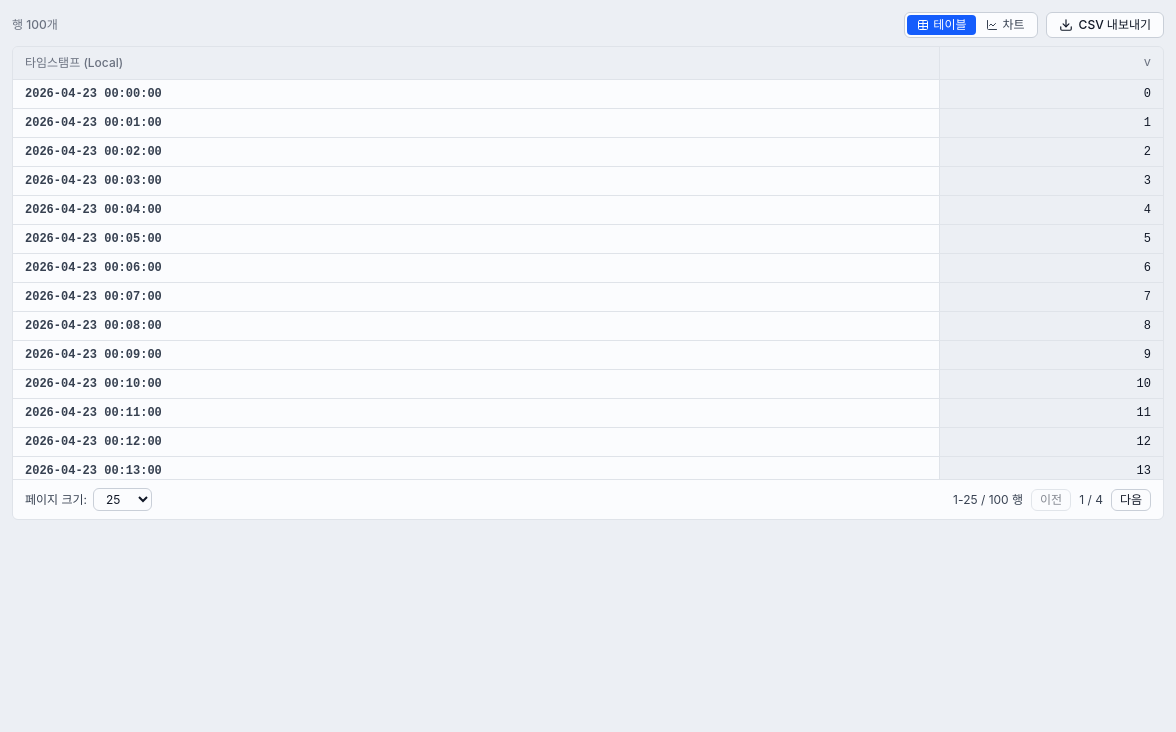
Test case: SeriesResultMatrix: 페이지네이션 › 페이지 크기 변경 시 페이지가 1로 리셋된다
Click the button with test id "tsdb-page-next": (1131, 500) [1111, 488, 1151, 510]
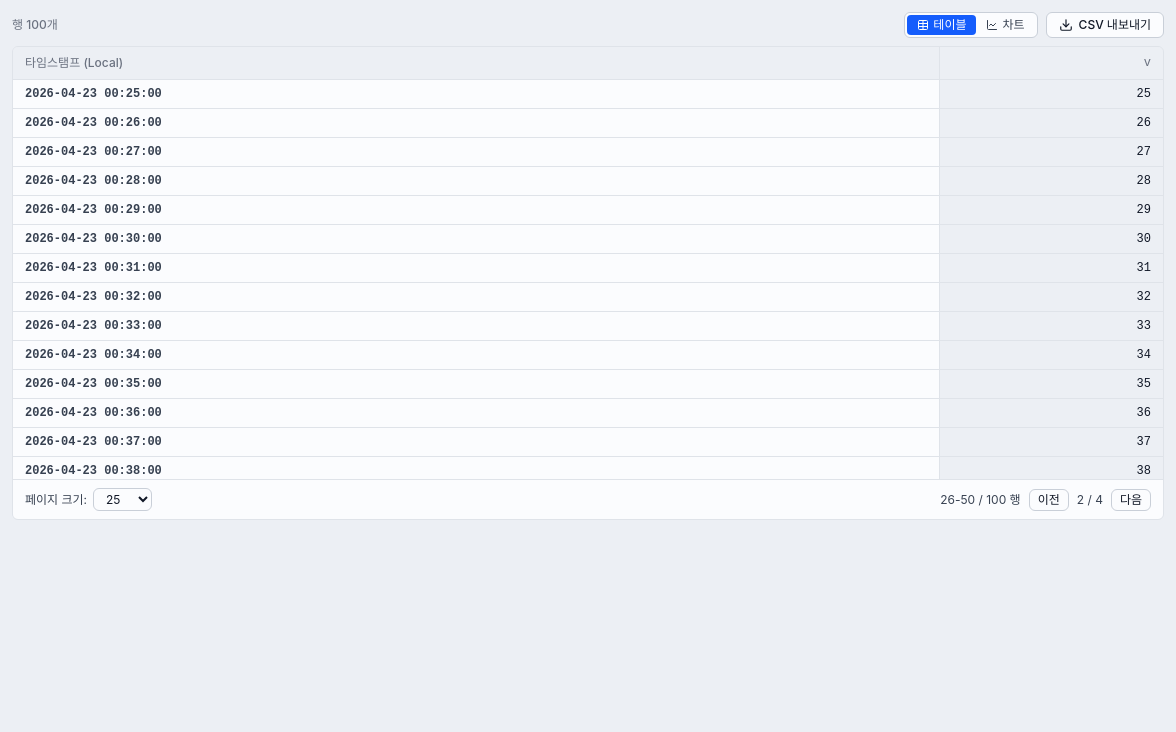
Check: the text with test id "tsdb-page-indicator" reads "2 / 4", box [1077, 492, 1103, 508]
Select "50" in the dropdown with test id "tsdb-page-size": (122, 500) [93, 488, 152, 511]
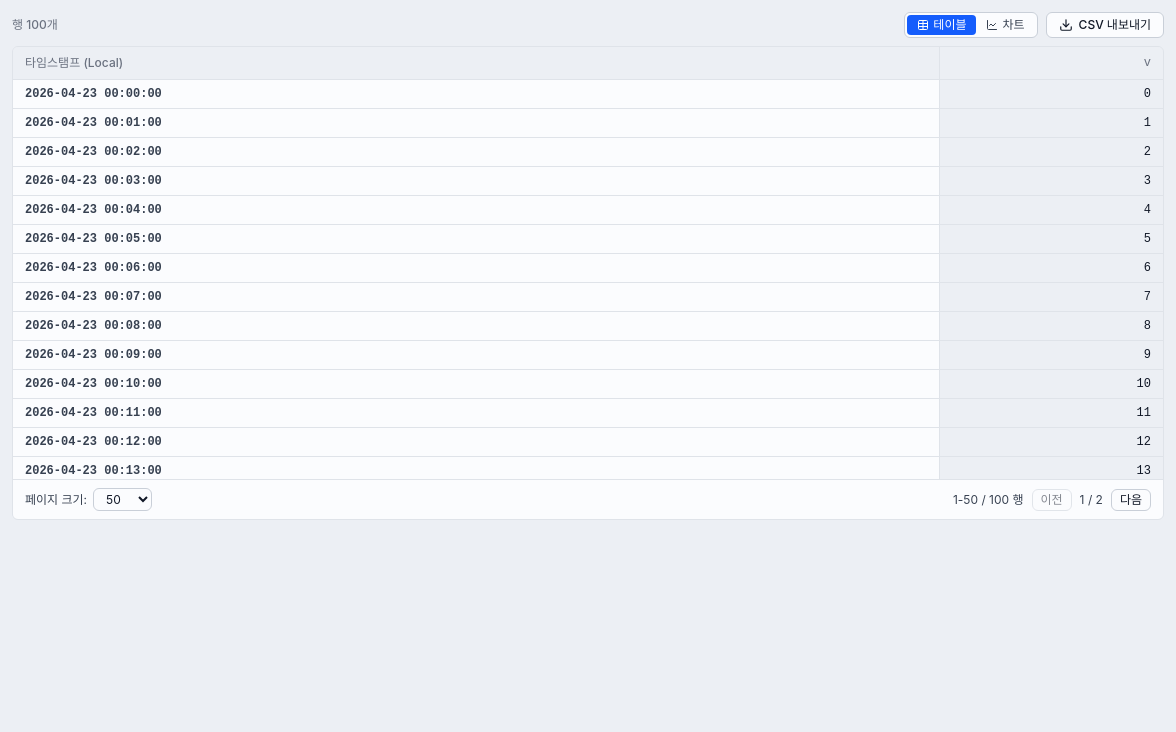
Check: the text with test id "tsdb-page-indicator" reads "1 / 2", box [1080, 492, 1103, 508]
Check: the text with test id "tsdb-page-range" reads "1-50 / 100 행", box [953, 492, 1024, 508]
